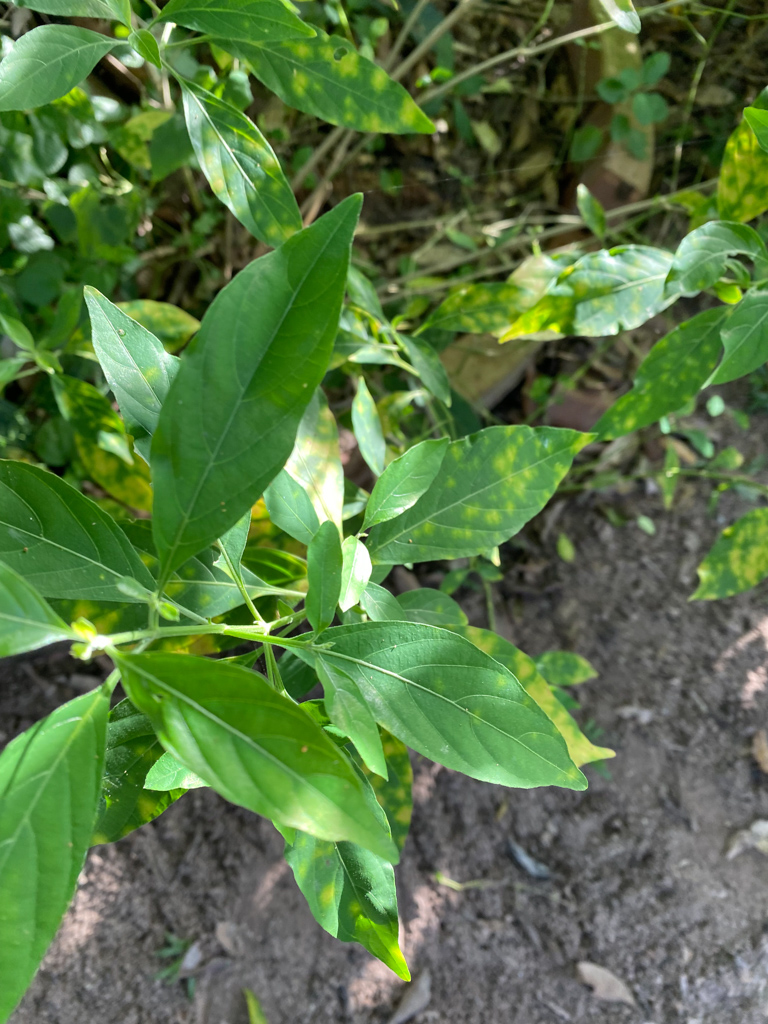Pepper yellow leaf: (458, 616, 630, 781), (415, 420, 593, 563), (495, 244, 656, 350), (71, 372, 152, 515), (684, 496, 766, 611)
